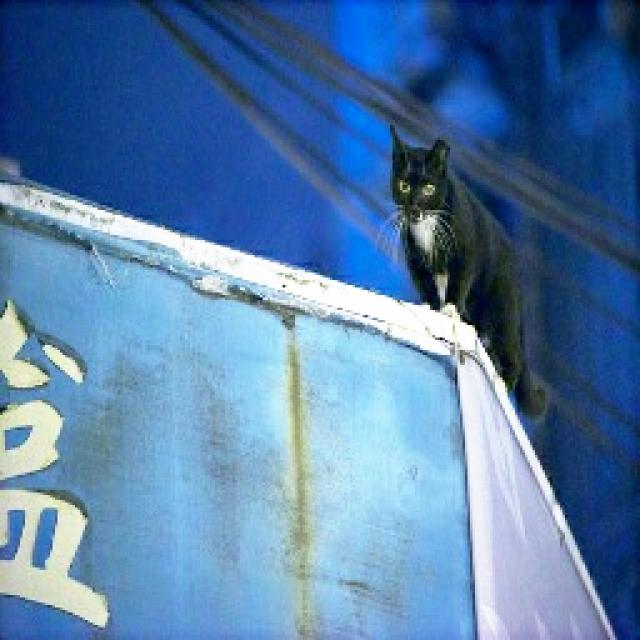cat: (364, 123, 568, 433)
